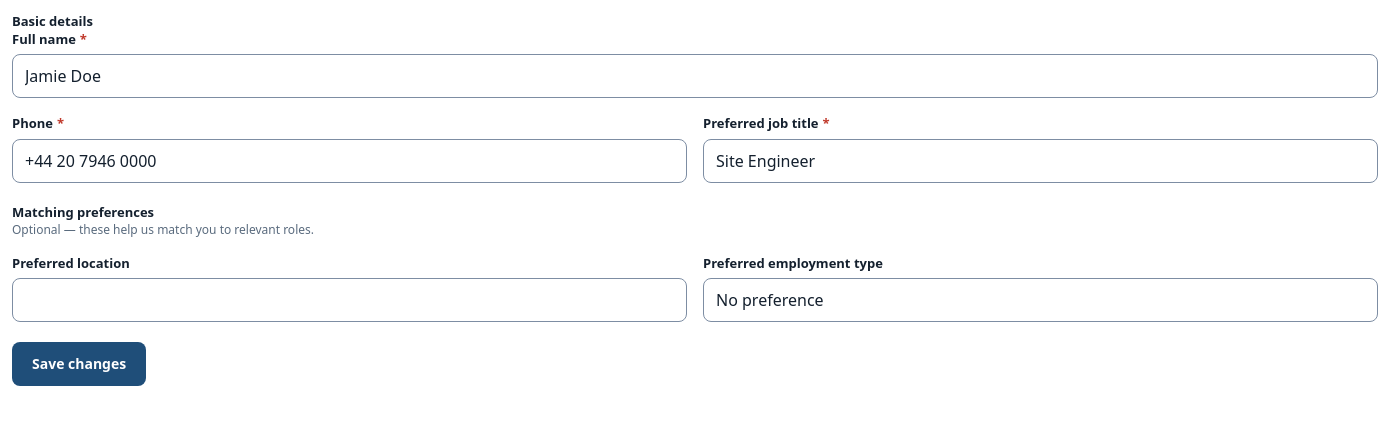
CandidateProfileForm › maps an API field error onto the matching input
This screenshot has width=1390, height=431.
Click the button "Save changes" at (79, 364), box [12, 342, 146, 386]
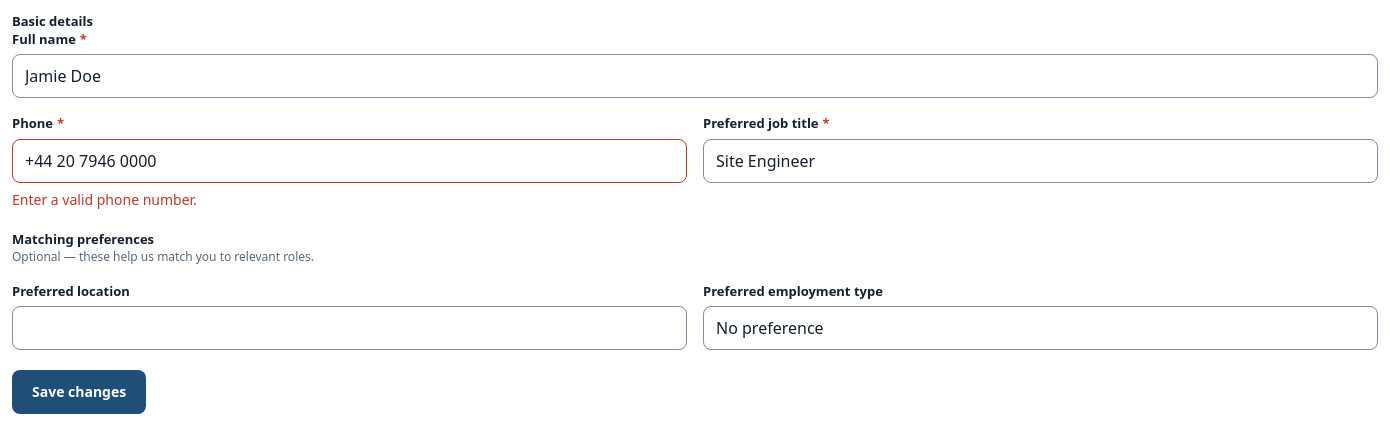
Expected: the text "Enter a valid phone number." is shown, [12, 190, 197, 209]
